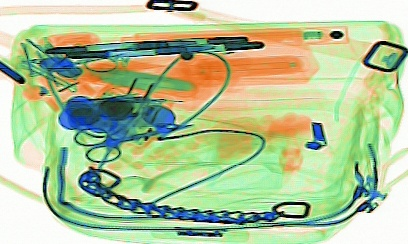scissors: (71, 122, 195, 168)
